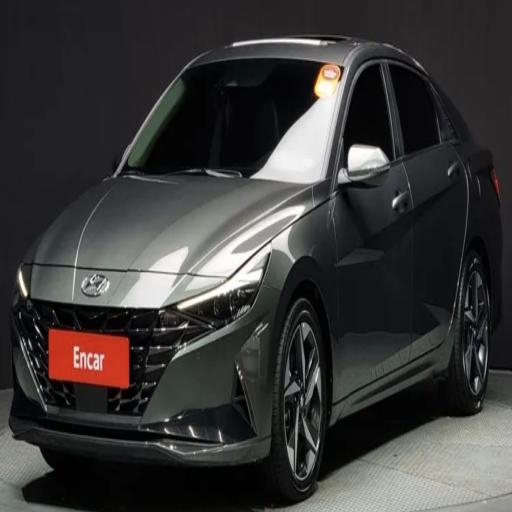normal: (14, 19, 496, 474)
